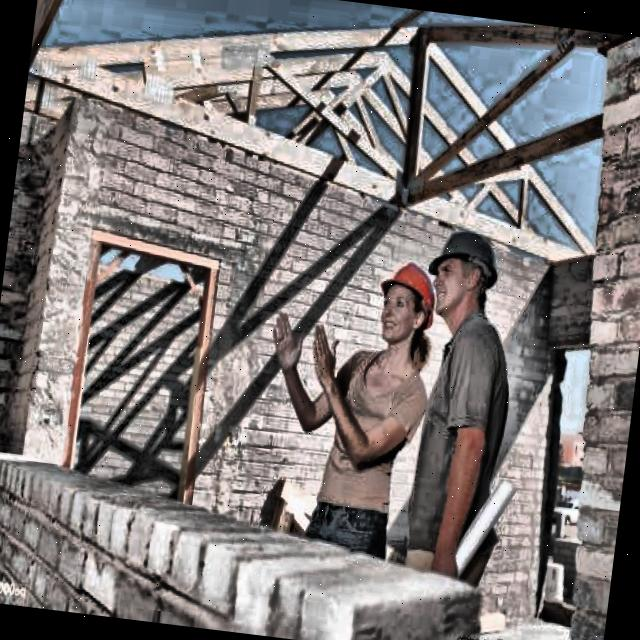helmet: (418, 212, 509, 334), (366, 245, 444, 354)
